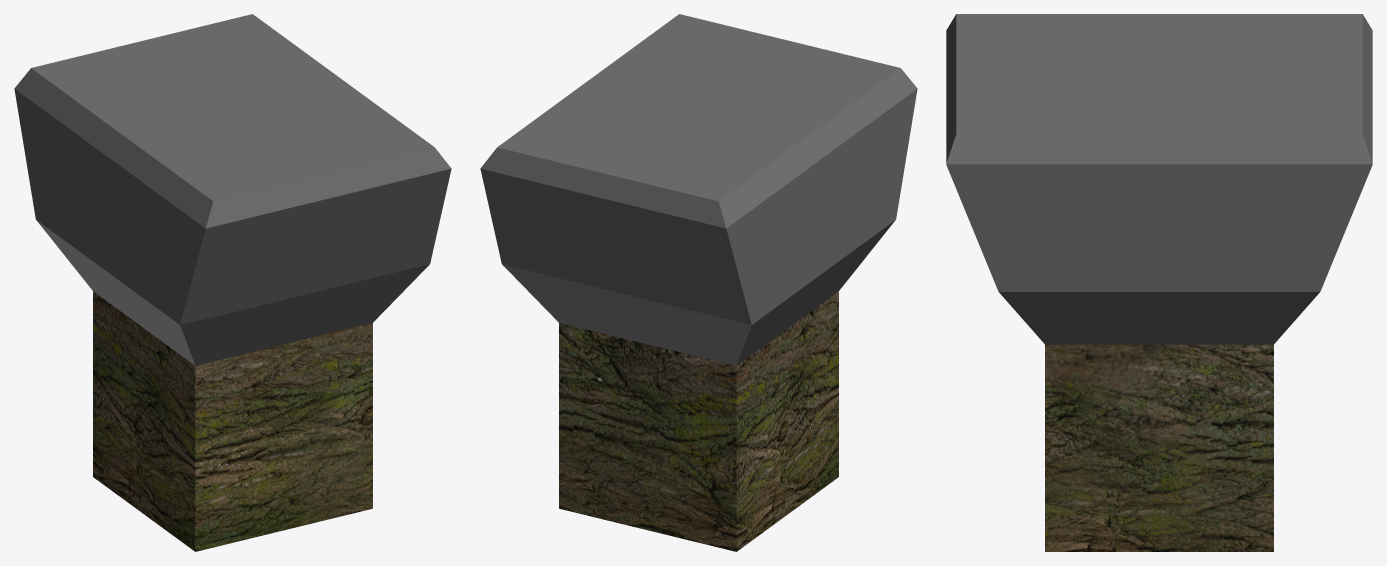
The model's file is amboss.glb.
The picture shows the model from 3 angles, left to right: view 1: azimuth 30°, elevation 25°; view 2: azimuth 150°, elevation 25°; view 3: azimuth 270°, elevation 25°; orthographic projection. The views are drawn at different scales.
Visible parts, largest first — view 1: Cube; view 2: Cube; view 3: Cube.
Part boxes in pixels (x1=…): Cube: x1=14, y1=14, x2=451, y2=551; Cube: x1=480, y1=14, x2=917, y2=551; Cube: x1=946, y1=14, x2=1372, y2=551.
Size of the model in its own units: 2.81 by 4.14 by 3.73.
Materials: 2 (1 with a texture image).
